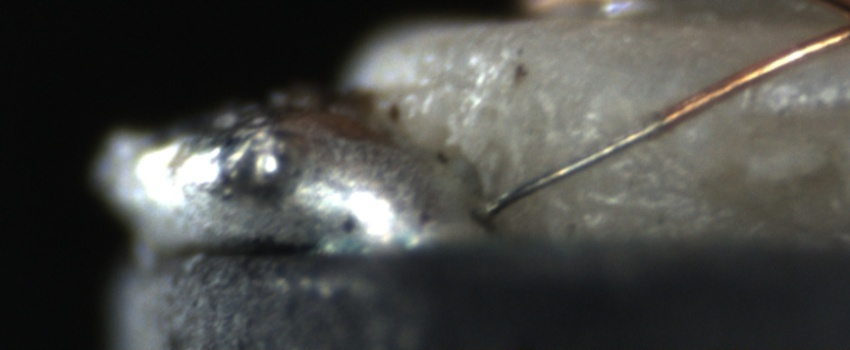DL: (689, 80, 850, 144)
TS: (486, 112, 664, 218)
TTCW: (477, 69, 755, 216)
